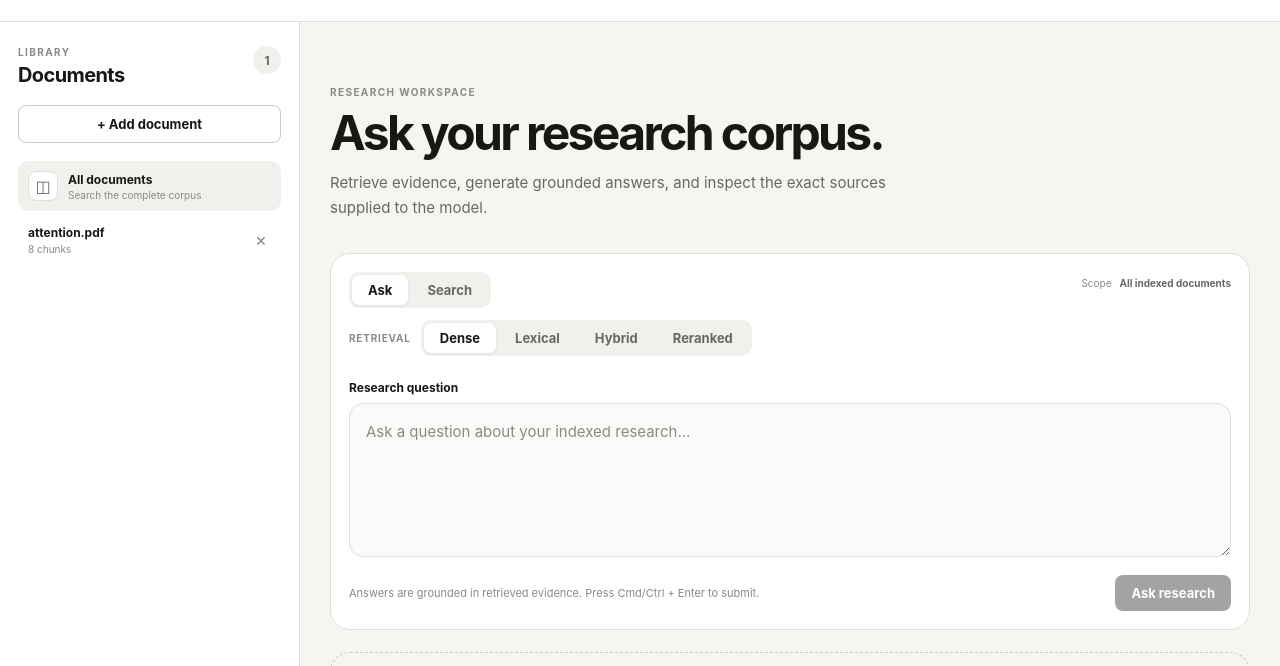
Test: App › performs semantic search within the selected document
The image size is (1280, 666).
Click the button with aria-label "Select attention.pdf". click: (130, 240)
box: [18, 215, 242, 265]
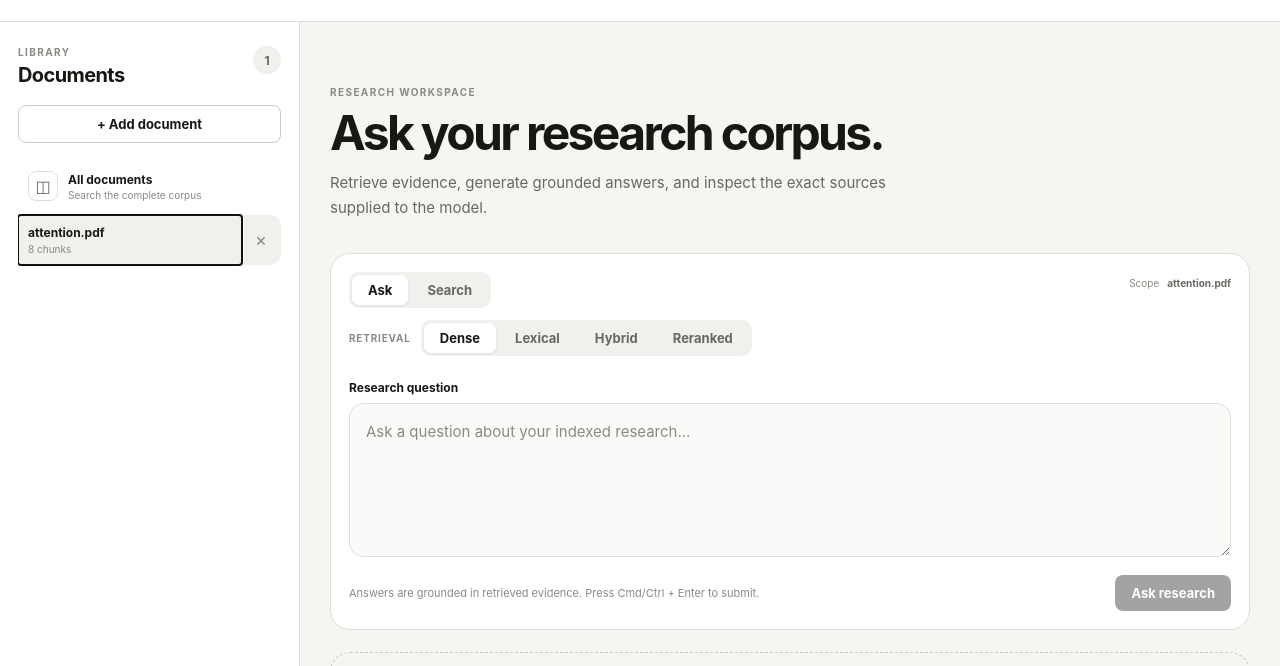
Click the button "Search". click: (450, 290)
box: [411, 275, 488, 305]
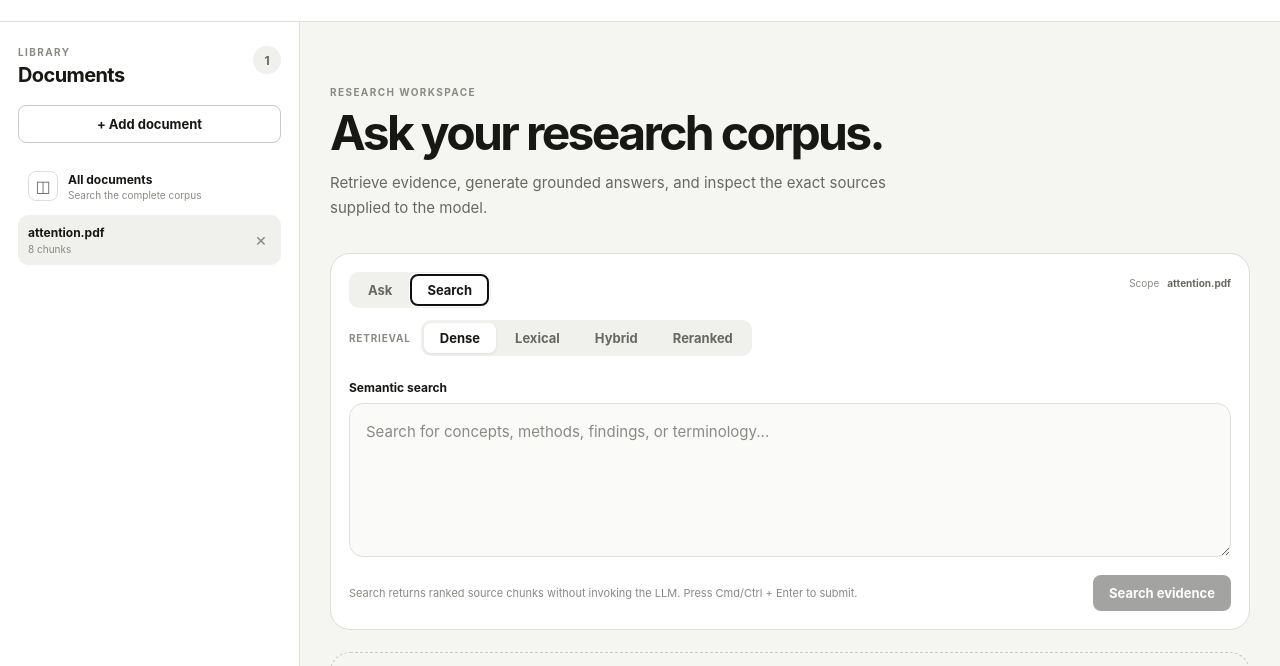
Type "attention mechanisms" into the text box labelled "Semantic search". click: (790, 480)
box: [349, 403, 1231, 557]
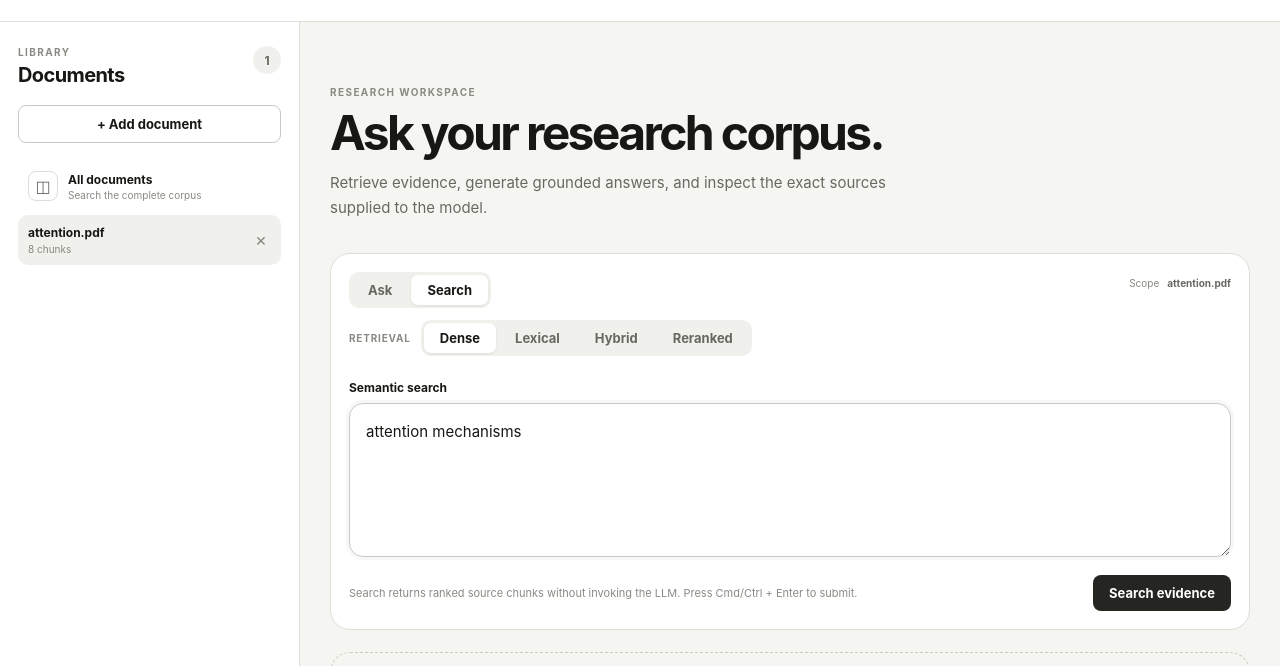
Click the button "Search evidence". click: (1162, 593)
box: [1093, 575, 1231, 611]
(page scrolled)
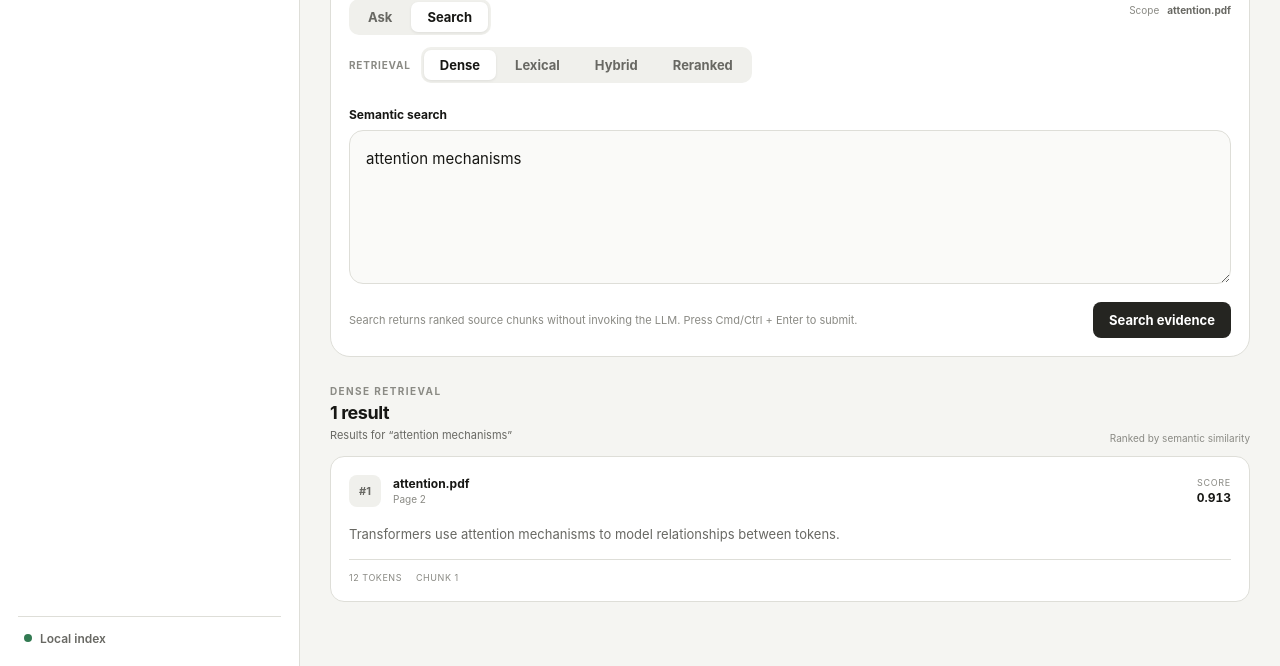
expect the text "Transformers use attention mechanisms to model relationships between tokens." is shown: met, box [349, 526, 840, 542]
expect the text "Page 2" is shown: met, box [393, 493, 426, 505]
